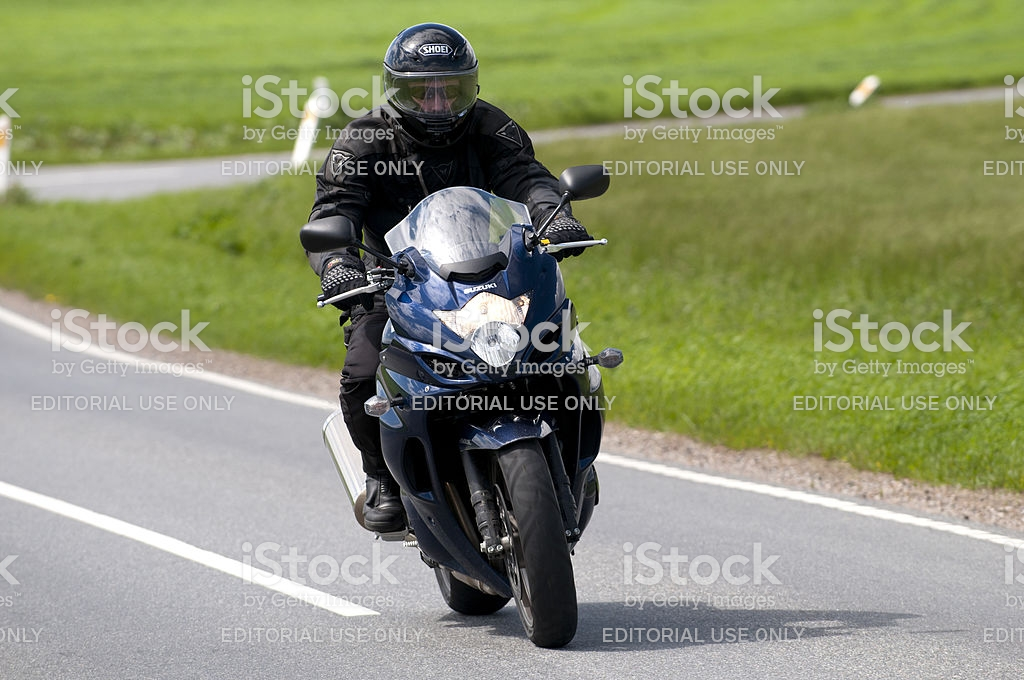helmet: (382, 16, 484, 147)
